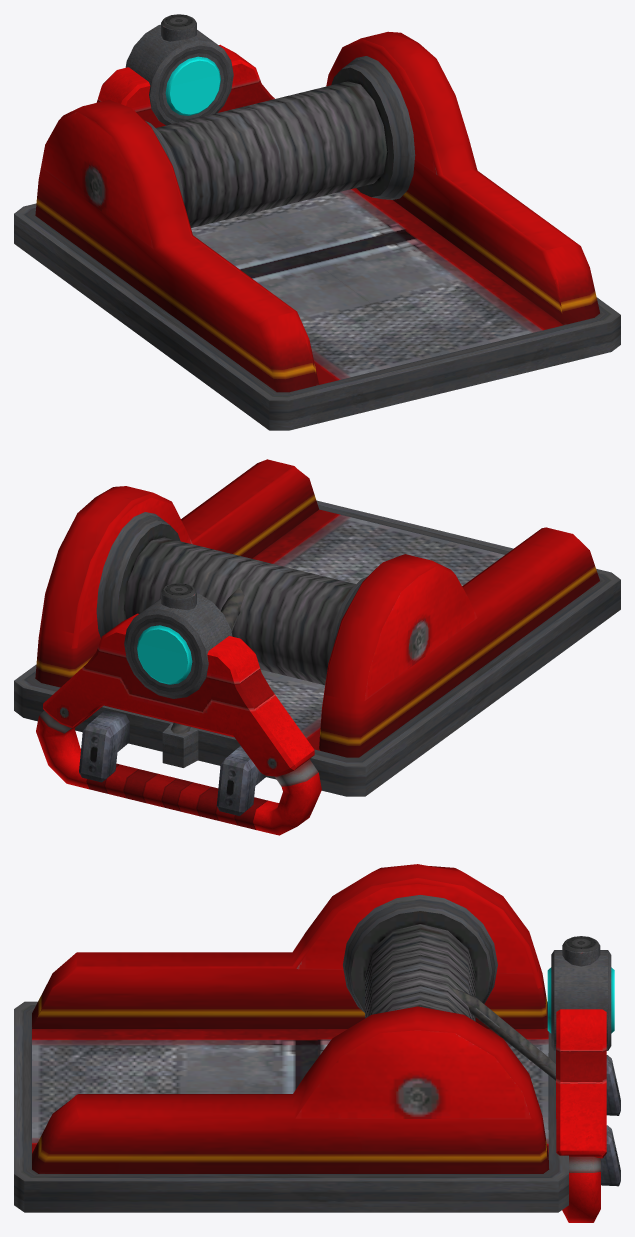
File: Pulley.fbx
3 views of the same model, one above another, from view 1: azimuth 30°, elevation 25°; view 2: azimuth 150°, elevation 25°; view 3: azimuth 270°, elevation 25° (orthographic). The views are drawn at different scales.
Visible parts, largest first — view 1: cmn_obj_upreel_stand_HD, cmn_obj_upreel_handle_HD; view 2: cmn_obj_upreel_stand_HD, cmn_obj_upreel_handle_HD; view 3: cmn_obj_upreel_stand_HD, cmn_obj_upreel_handle_HD.
Part boxes in pixels (x1,y1,x2,y2): cmn_obj_upreel_stand_HD: [14, 31, 620, 430]; cmn_obj_upreel_handle_HD: [96, 14, 274, 127]; cmn_obj_upreel_stand_HD: [14, 459, 620, 815]; cmn_obj_upreel_handle_HD: [36, 583, 321, 835]; cmn_obj_upreel_stand_HD: [14, 864, 620, 1212]; cmn_obj_upreel_handle_HD: [547, 936, 614, 1222].
Bounding box in the file's own units: 121 × 172 × 71.03.
Materials: 4 (4 with a texture image).
